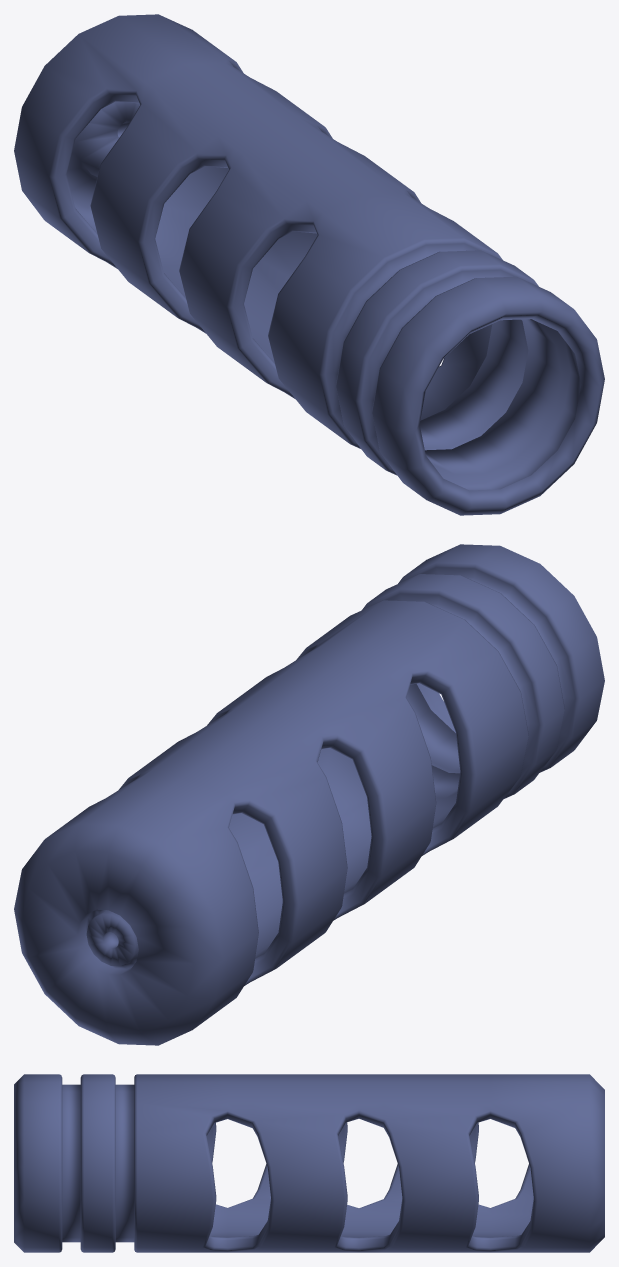
Rendered from Particle01.fbx.
3 renders of one model, top to bottom at view 1: azimuth 30°, elevation 25°; view 2: azimuth 150°, elevation 25°; view 3: azimuth 270°, elevation 25°, orthographic. The views are drawn at different scales.
Visible parts, largest first — view 1: Cylinder.003; view 2: Cylinder.003; view 3: Cylinder.003.
Part boxes in pixels (bbox=[...]): Cylinder.003: bbox=[14, 14, 604, 515]; Cylinder.003: bbox=[14, 544, 604, 1045]; Cylinder.003: bbox=[14, 1074, 604, 1252].
Size of the model in its own units: 0.3313 by 0.3313 by 1.1.
